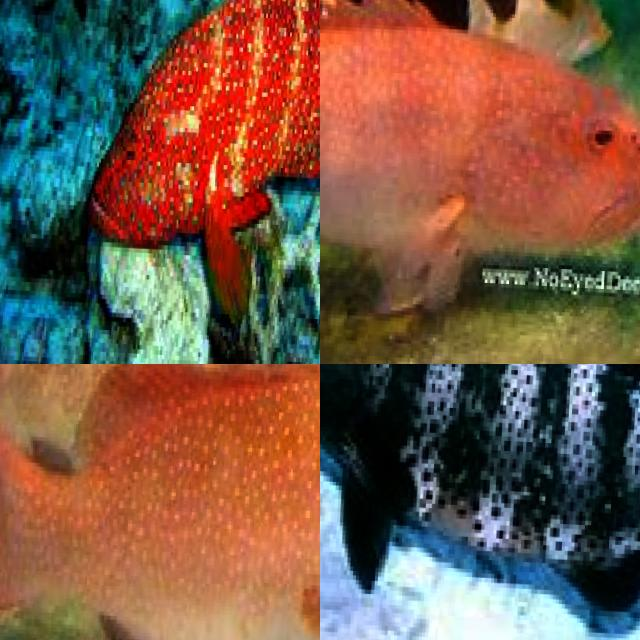Plectropomus-leopardus: (320, 0, 640, 318), (65, 0, 320, 347), (0, 364, 320, 640), (320, 364, 640, 640)
